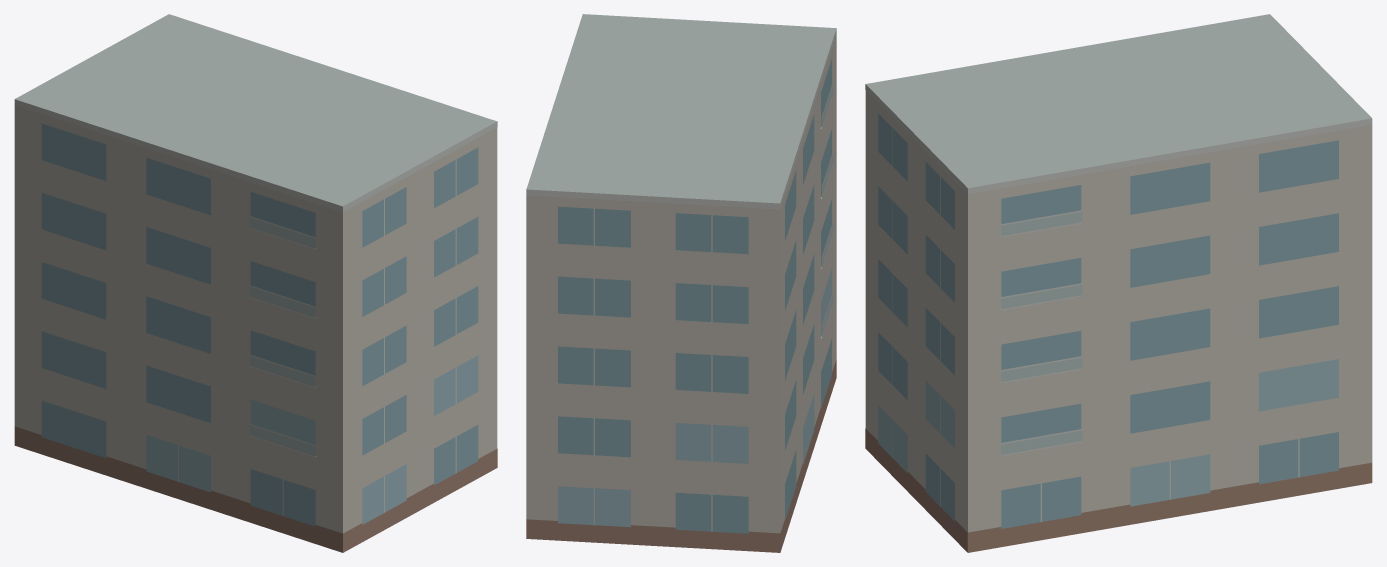
File: survey-upis-32849643.glb
3 renders of one model, left to right at view 1: azimuth 30°, elevation 25°; view 2: azimuth 150°, elevation 25°; view 3: azimuth 270°, elevation 25°, orthographic. The views are drawn at different scales.
Visible parts, largest first — view 1: survey-upis-32849643.tmp; view 2: survey-upis-32849643.tmp; view 3: survey-upis-32849643.tmp.
Boxes of the visible parts, x1,y1,x2,y2 form: survey-upis-32849643.tmp: (14,14,497,552); survey-upis-32849643.tmp: (526,14,836,552); survey-upis-32849643.tmp: (865,14,1372,552).
Bounding box in the file's own units: 14.87 × 14.5 × 18.27.
